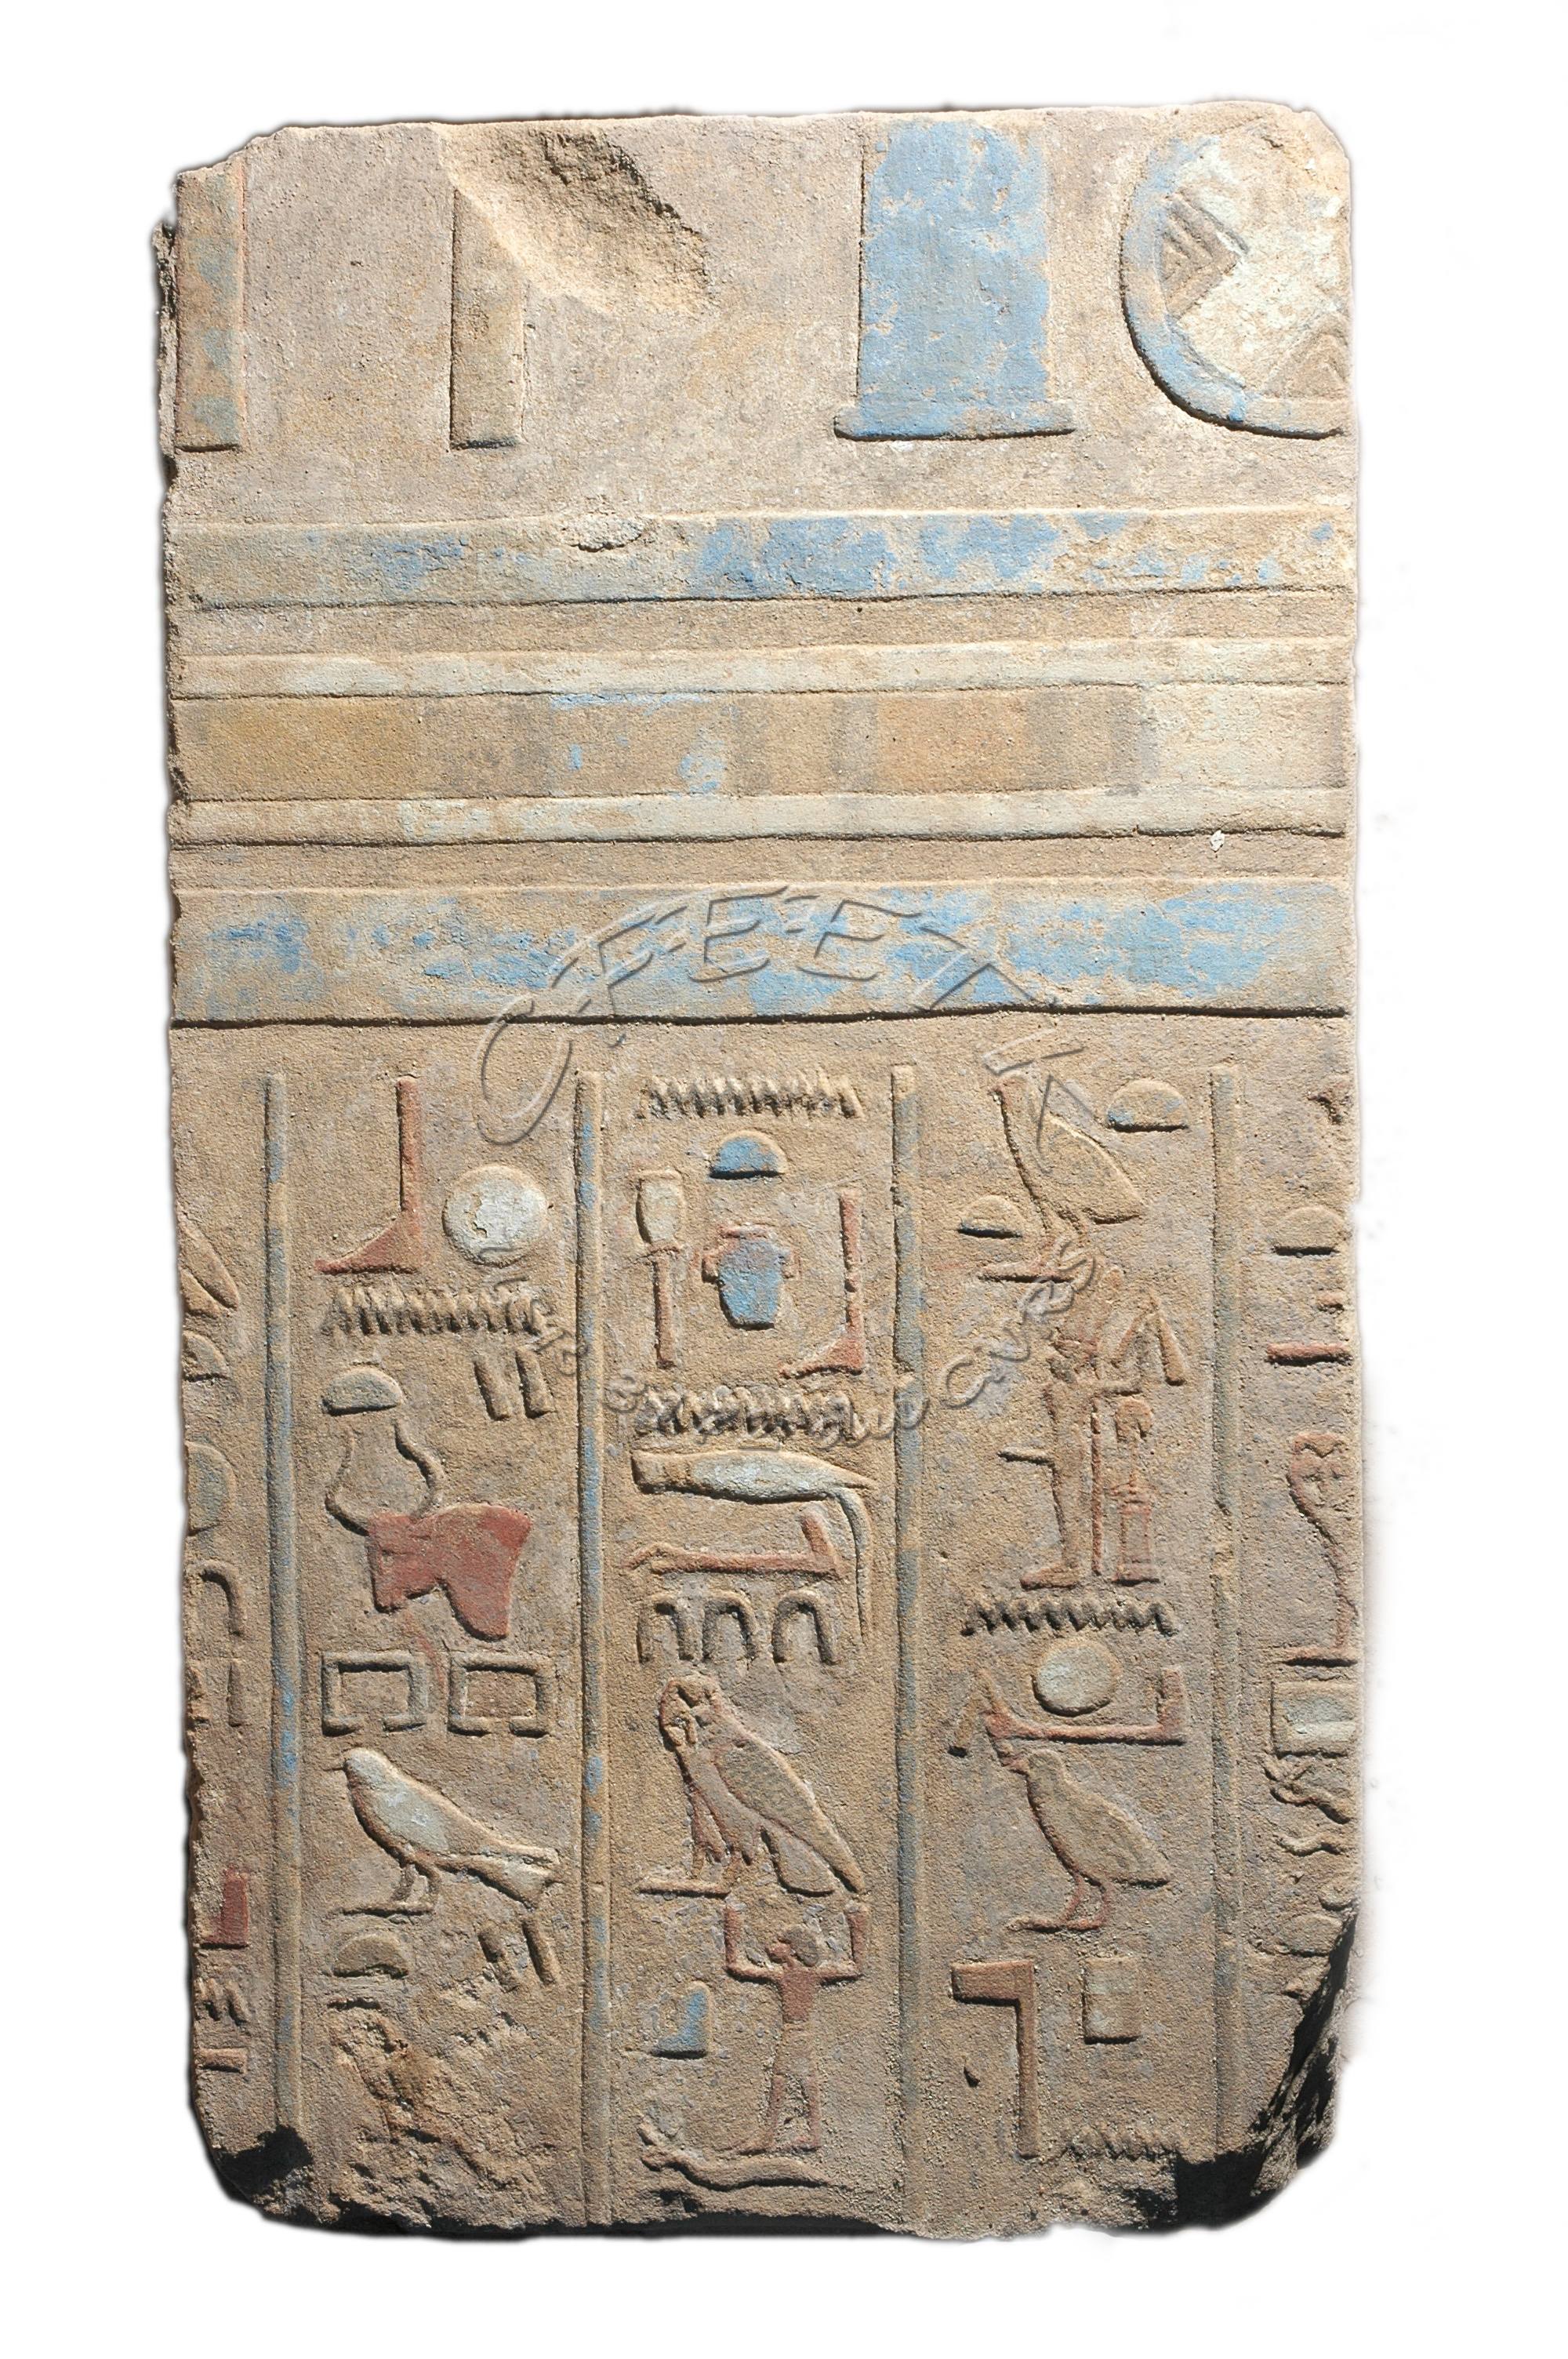G17: (616, 1641, 889, 1930)
G43: (954, 1050, 1160, 1283), (987, 1732, 1176, 1942)
N35: (301, 1267, 560, 1356), (616, 1055, 868, 1146), (943, 1573, 1190, 1662), (626, 1379, 875, 1461), (1050, 2095, 1199, 2177)
